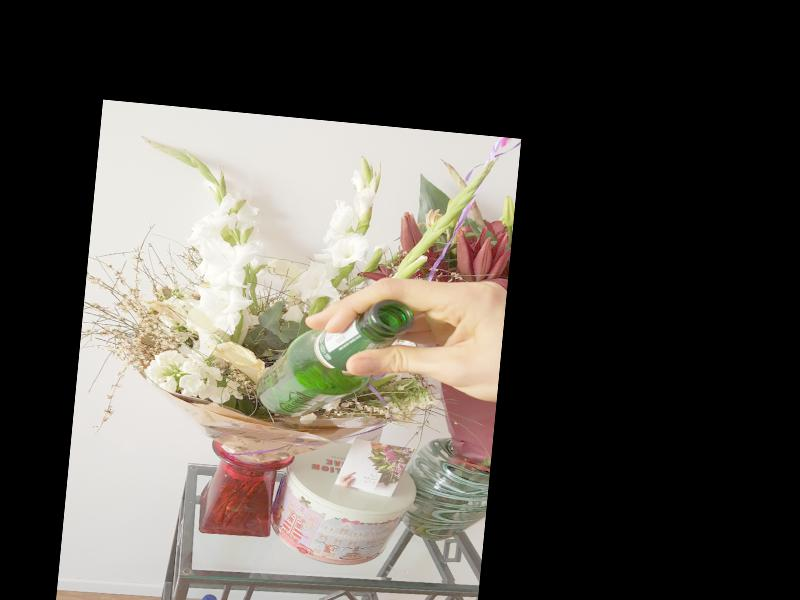Beer: (255, 288, 412, 426)
